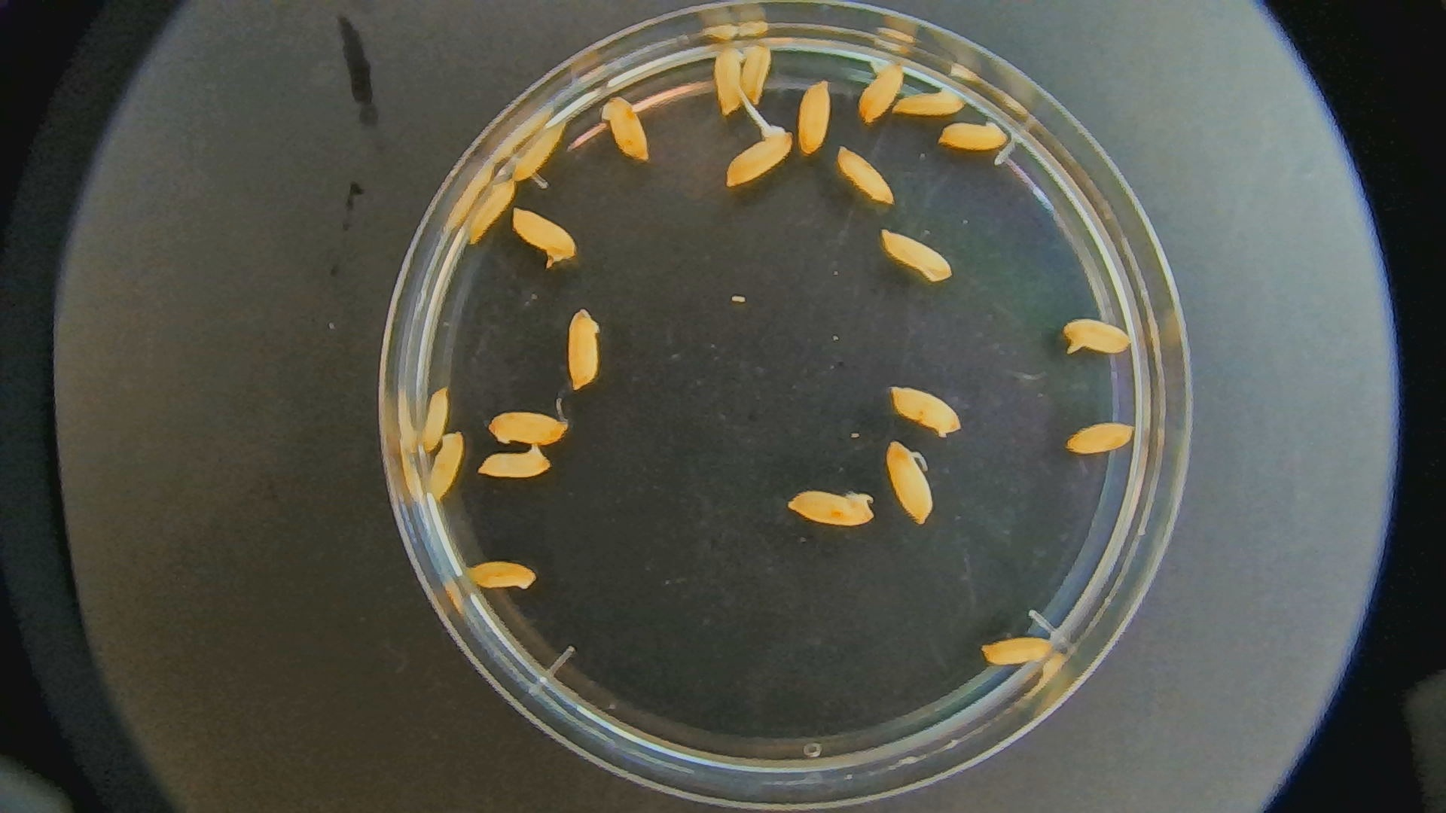no: (511, 202, 579, 271), (880, 226, 954, 284), (890, 382, 964, 440), (786, 484, 880, 528), (834, 144, 897, 206), (600, 94, 654, 163), (513, 117, 569, 183), (469, 174, 516, 246), (565, 308, 606, 389), (1059, 314, 1133, 358), (487, 408, 568, 446), (795, 75, 831, 158), (426, 430, 468, 501), (463, 557, 536, 597), (858, 61, 904, 123), (477, 444, 554, 481), (893, 79, 965, 117), (935, 117, 1011, 153), (1062, 421, 1134, 458), (978, 635, 1057, 668), (742, 34, 776, 109), (715, 43, 747, 120), (419, 385, 452, 455)
yes: (725, 125, 791, 187), (886, 443, 932, 526)
